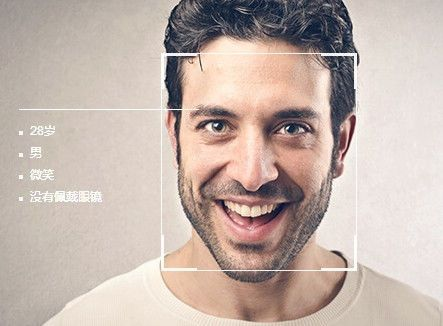no_mask: (180, 48, 340, 265)
